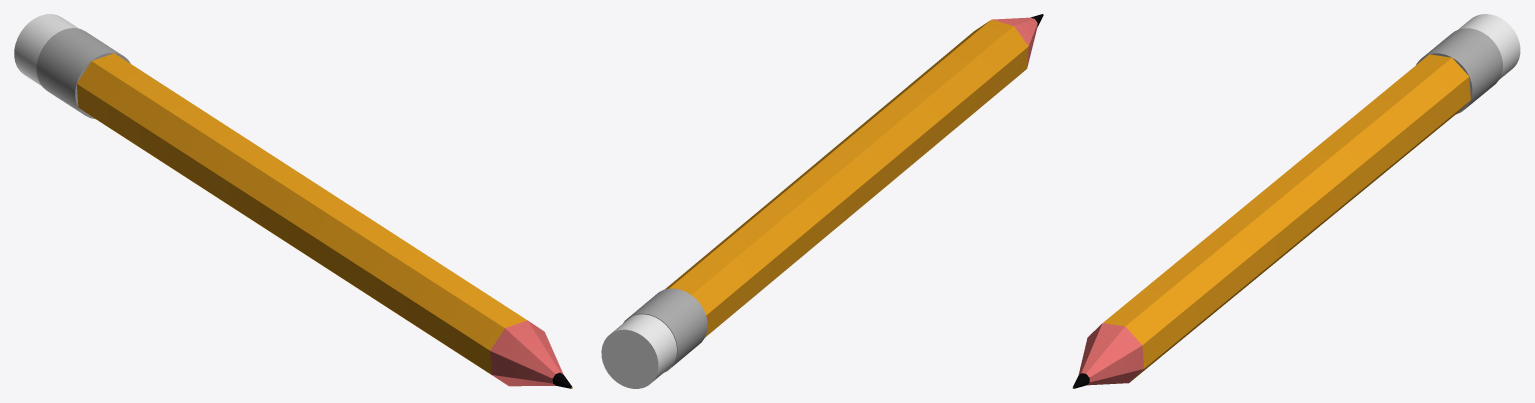
Rendered from pencil.glb.
3 renders of one model, left to right at view 1: azimuth 30°, elevation 25°; view 2: azimuth 150°, elevation 25°; view 3: azimuth 330°, elevation 25°, orthographic. The views are drawn at different scales.
Parts seen in each view (by area): view 1: Cylinder.002; view 2: Cylinder.002; view 3: Cylinder.002.
Boxes of the visible parts, x1,y1,x2,y2 form: Cylinder.002: (14, 14, 572, 388); Cylinder.002: (601, 14, 1043, 388); Cylinder.002: (1072, 14, 1520, 388).
Bounding box in the file's own units: 0.3305 × 0.2089 × 2.84.
